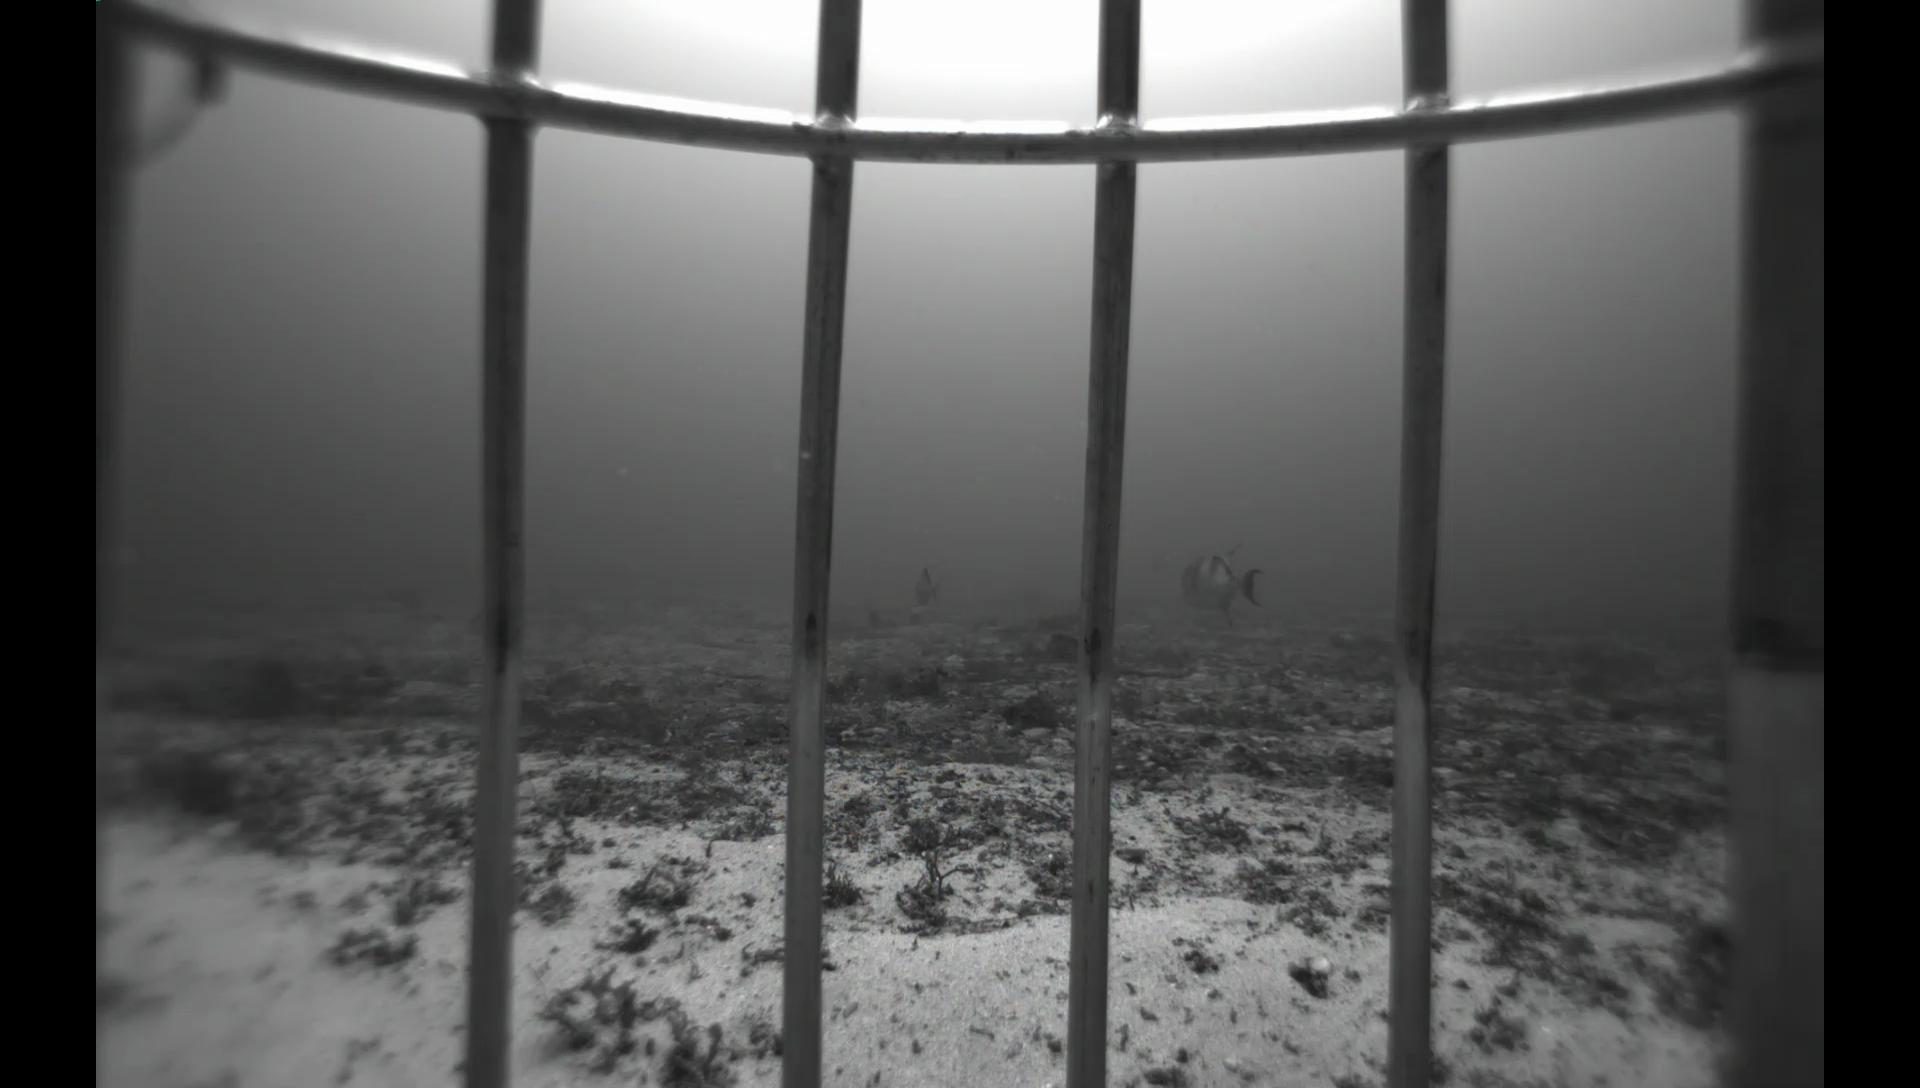BALISTESCAPRISCUS-189030502: (1160, 524, 1286, 636), (909, 560, 948, 613), (117, 529, 142, 571)
LUTJANUSGRISEUS-170151109: (460, 603, 487, 645)
